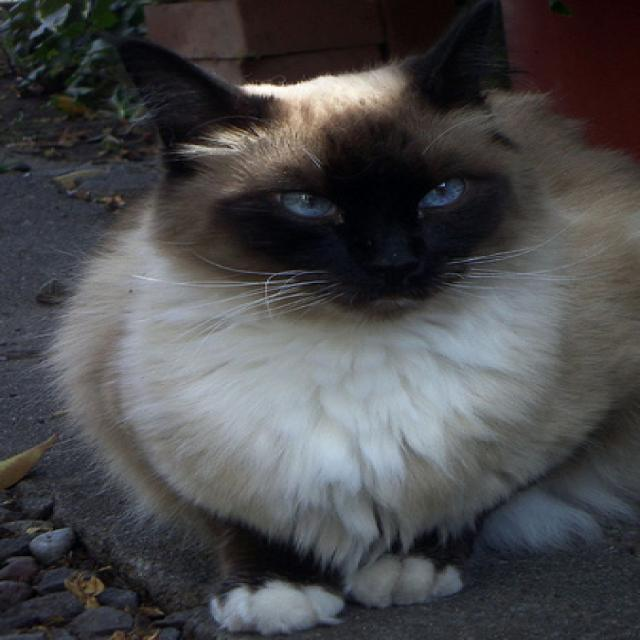Birman: (45, 0, 639, 631)
